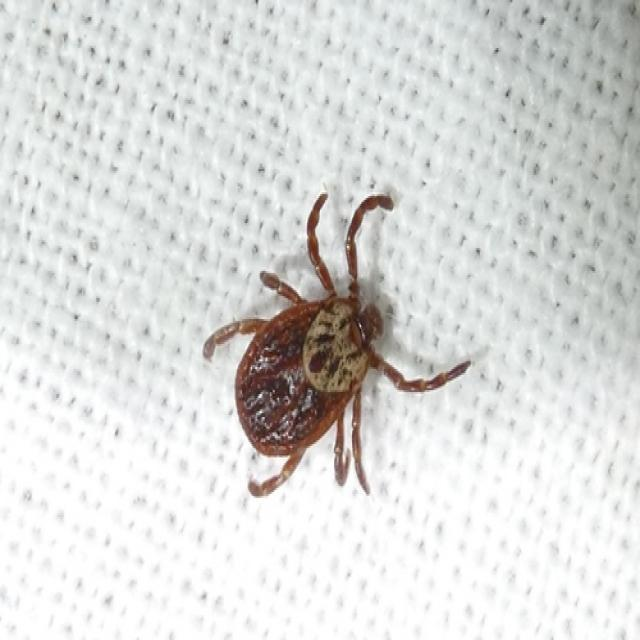Dermacentor Reticulatus-F: (201, 192, 471, 496)
